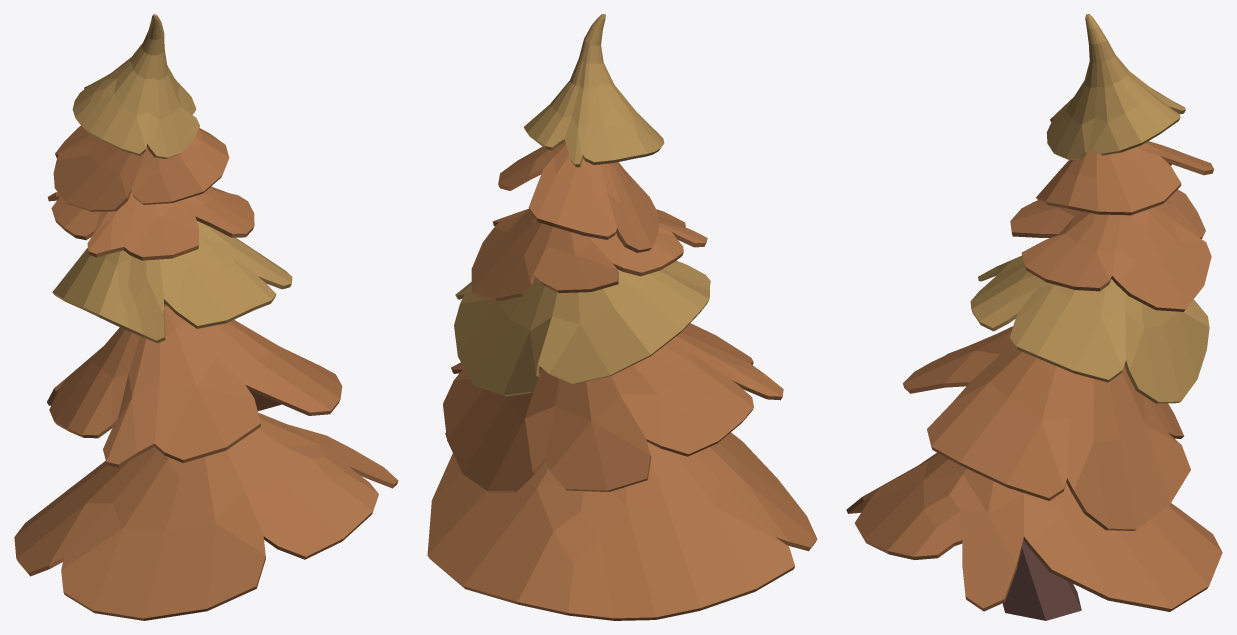
The picture shows the model from 3 angles, left to right: view 1: azimuth 30°, elevation 25°; view 2: azimuth 150°, elevation 25°; view 3: azimuth 270°, elevation 25°; orthographic projection. The views are drawn at different scales.
Visible parts, largest first — view 1: PineTree_Autumn_3; view 2: PineTree_Autumn_3; view 3: PineTree_Autumn_3.
Part boxes in pixels (x1,y1,x2,y2): PineTree_Autumn_3: (14, 14, 398, 620); PineTree_Autumn_3: (427, 14, 817, 620); PineTree_Autumn_3: (846, 14, 1222, 620).
Size of the model in its own units: 2.16 by 3.3 by 1.95.
